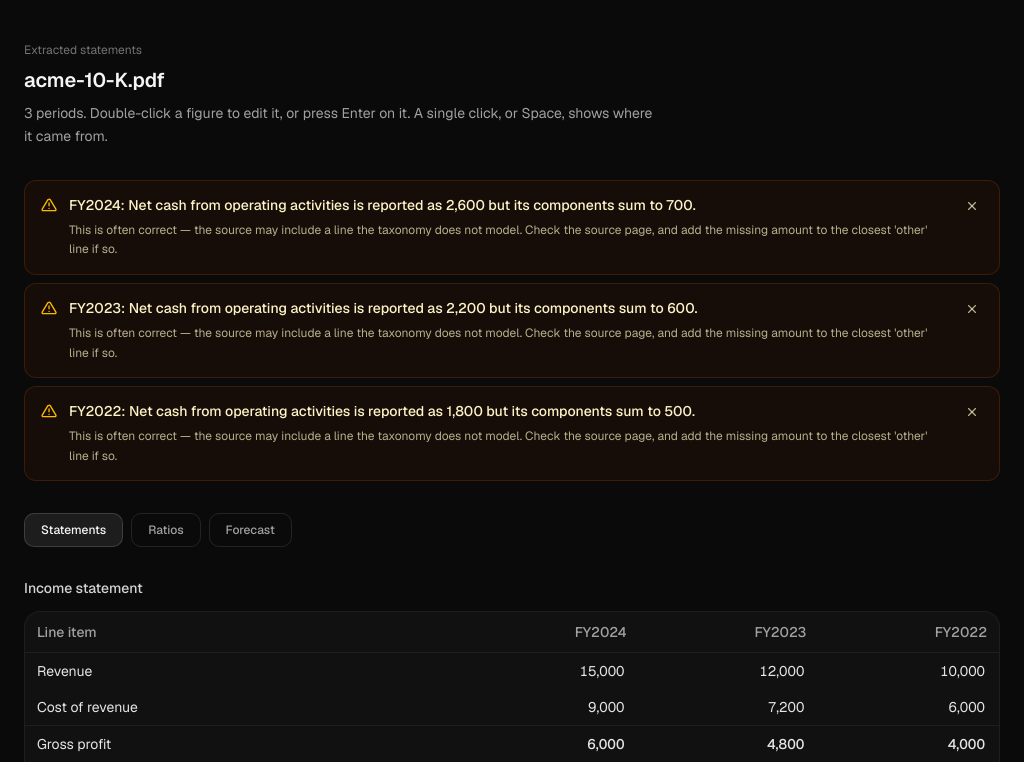
Test case: ratios over the forecast › gain a forecast column when a scenario is active
Step 1. Click the tab "Ratios" → (166, 530), box x1=131 y1=513 x2=201 y2=547
(page scrolled)
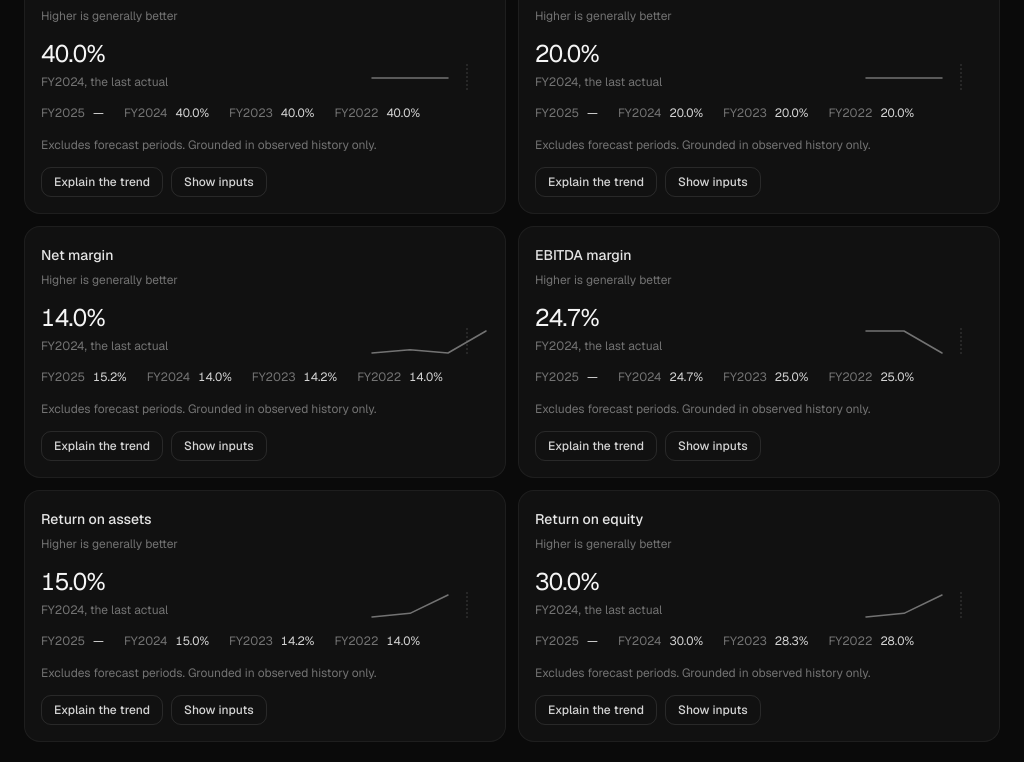
Expected: the text "FY2025" next to "15.2%" is shown, x1=41 y1=369 x2=85 y2=385
Expected: the text "15.2%" is shown, x1=93 y1=368 x2=127 y2=388
